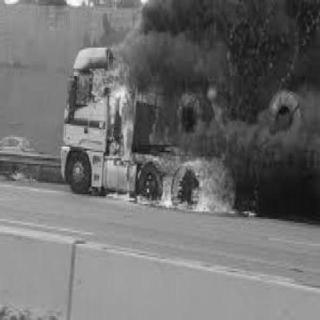Fire: (11, 163, 37, 184), (131, 8, 147, 30)
